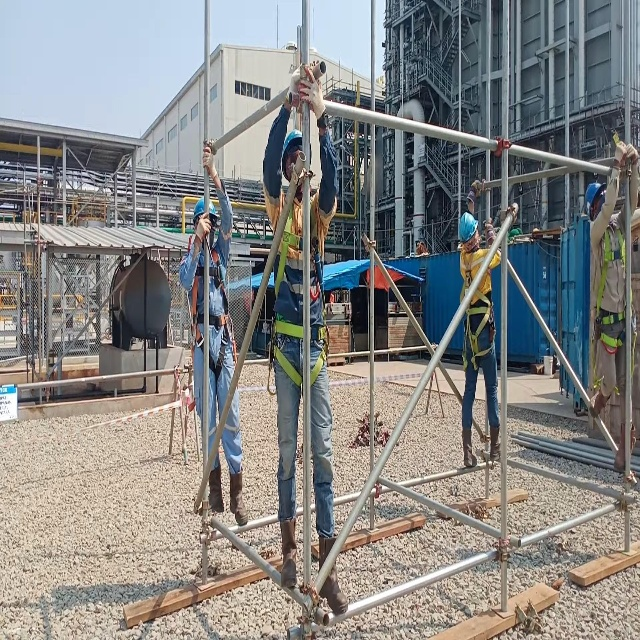Arnes_seguridad: (265, 185, 334, 401), (185, 232, 240, 384), (591, 224, 638, 380), (456, 246, 497, 378)
